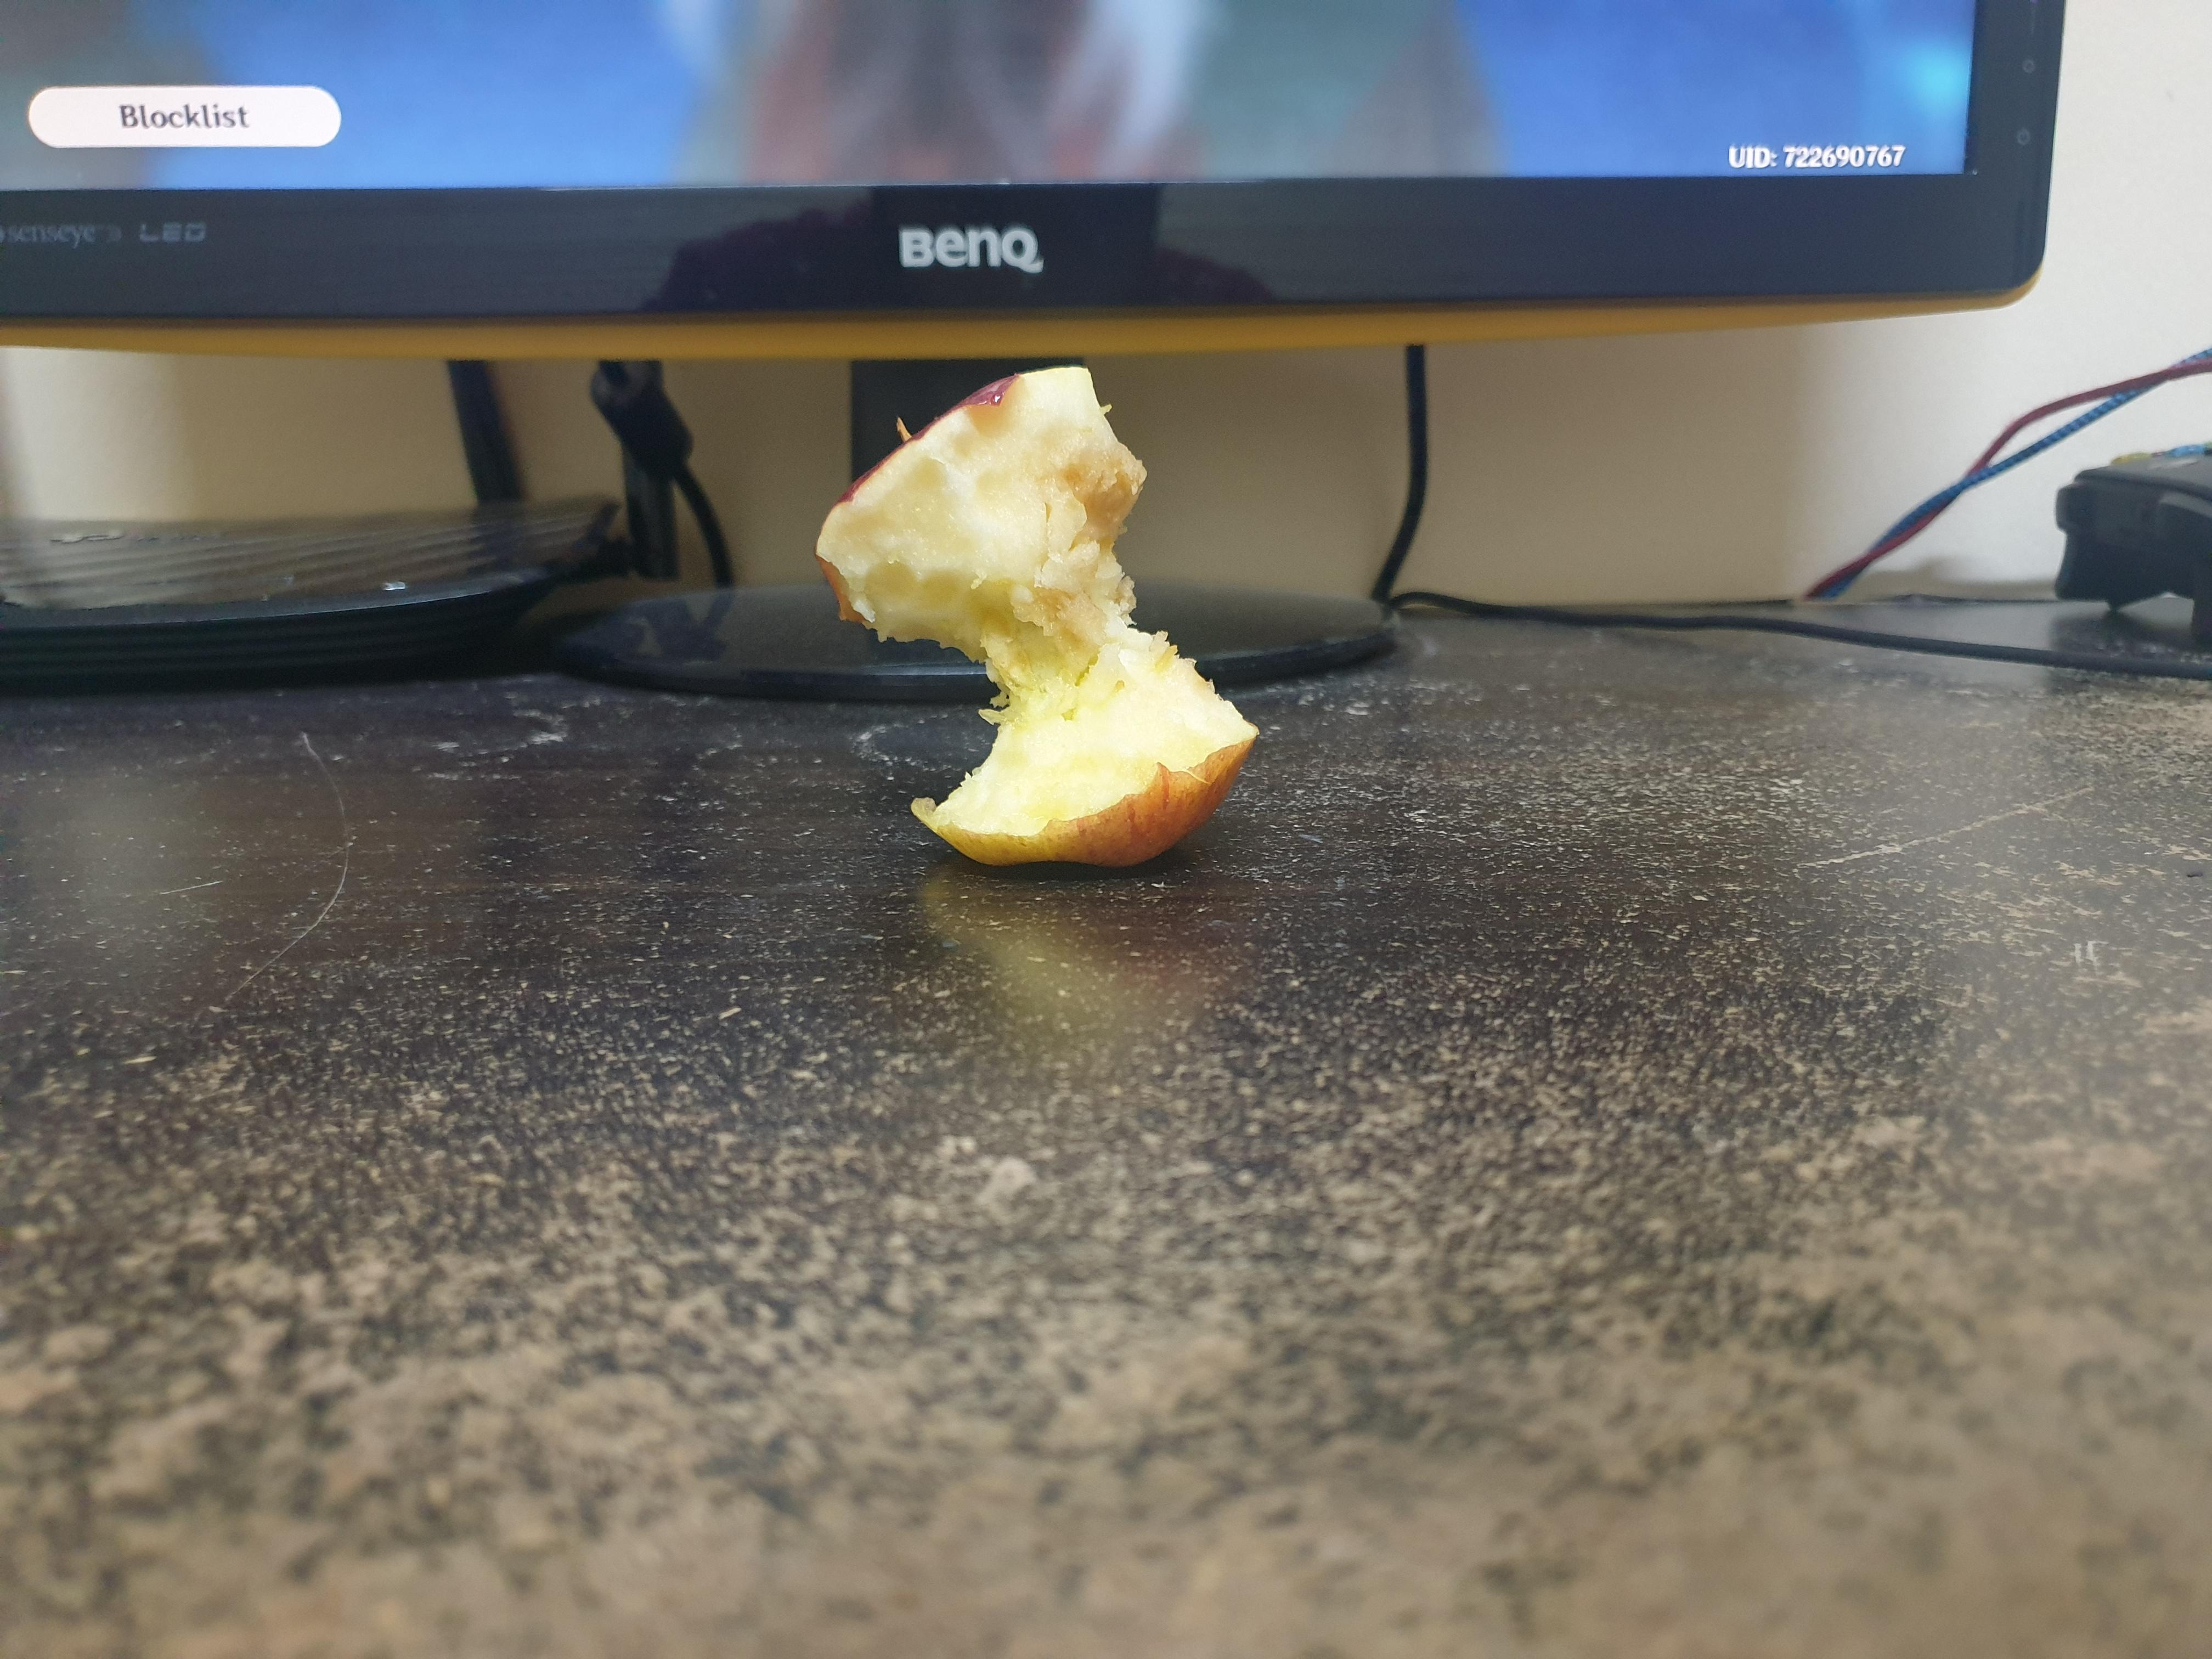Apple: (763, 321, 1287, 908)
